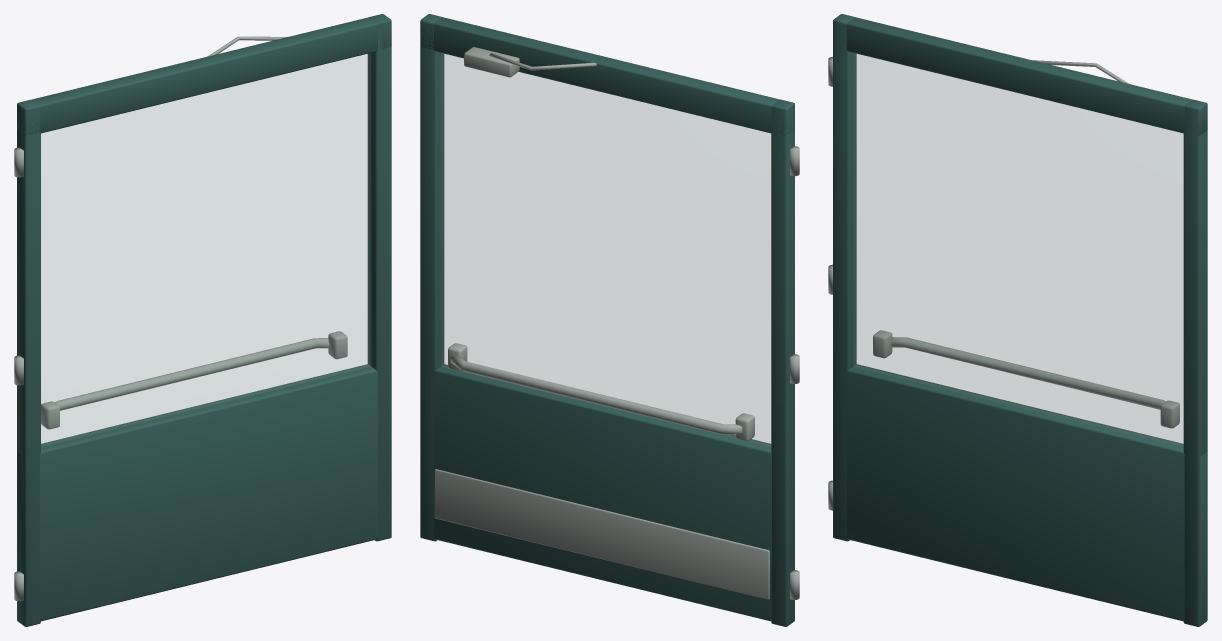
Rendered from porte-escalier-v01.glb.
The picture shows the model from 3 angles, left to right: view 1: azimuth 30°, elevation 25°; view 2: azimuth 150°, elevation 25°; view 3: azimuth 330°, elevation 25°; orthographic projection.
Visible parts, largest first — view 1: Vitrage de sécurité, Panneau bas, Traverse supérieure, Montant, Montant.001, Barre anti-panique; view 2: Vitrage de sécurité, Panneau bas, Pare-chocs brossé, Traverse supérieure, Montant, Montant.001, Barre anti-panique, Ferme-porte; view 3: Vitrage de sécurité, Panneau bas, Traverse supérieure, Montant.001, Montant, Barre anti-panique.
Part boxes in pixels (x1,y1,x2,y2): Vitrage de sécurité: (41,53,370,446); Panneau bas: (17,364,390,622); Traverse supérieure: (17,17,391,135); Montant: (17,99,40,626); Montant.001: (367,14,391,541); Barre anti-panique: (55,338,329,410); Vitrage de sécurité: (441,53,770,446); Panneau bas: (421,364,771,621); Pare-chocs brossé: (434,469,769,599); Traverse supérieure: (420,17,794,135); Montant: (771,99,794,626); Montant.001: (420,14,444,541); Barre anti-panique: (450,356,742,434); Ferme-porte: (464,47,519,77); Vitrage de sécurité: (853,53,1183,446); Panneau bas: (834,364,1207,622); Traverse supérieure: (833,17,1207,135); Montant.001: (1183,99,1207,626); Montant: (833,14,856,541); Barre anti-panique: (891,337,1165,409).
Size of the model in its own units: 1.98 by 2.62 by 0.2414.
